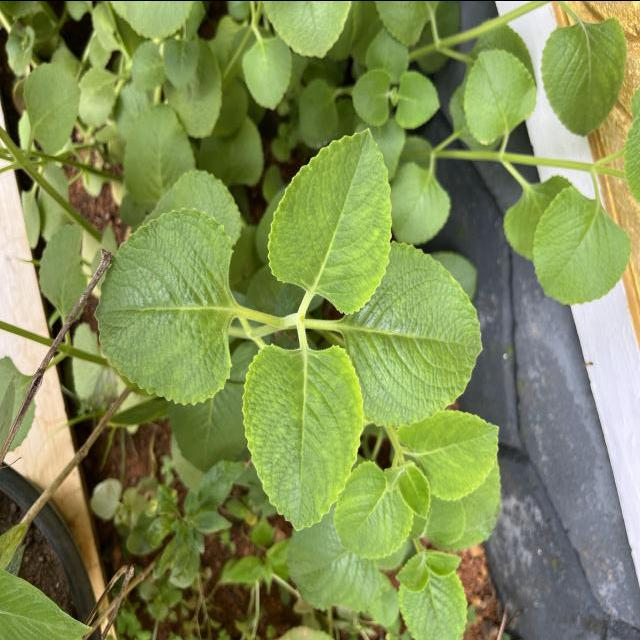Plectranthus barbatus: (94, 205, 235, 405), (352, 237, 484, 428), (266, 126, 393, 314), (241, 340, 364, 529), (532, 185, 633, 305), (540, 15, 628, 138), (394, 406, 501, 500), (333, 459, 414, 558), (462, 47, 536, 147), (397, 565, 469, 640), (390, 160, 452, 244), (240, 31, 294, 112), (394, 70, 442, 128), (351, 66, 391, 126)
